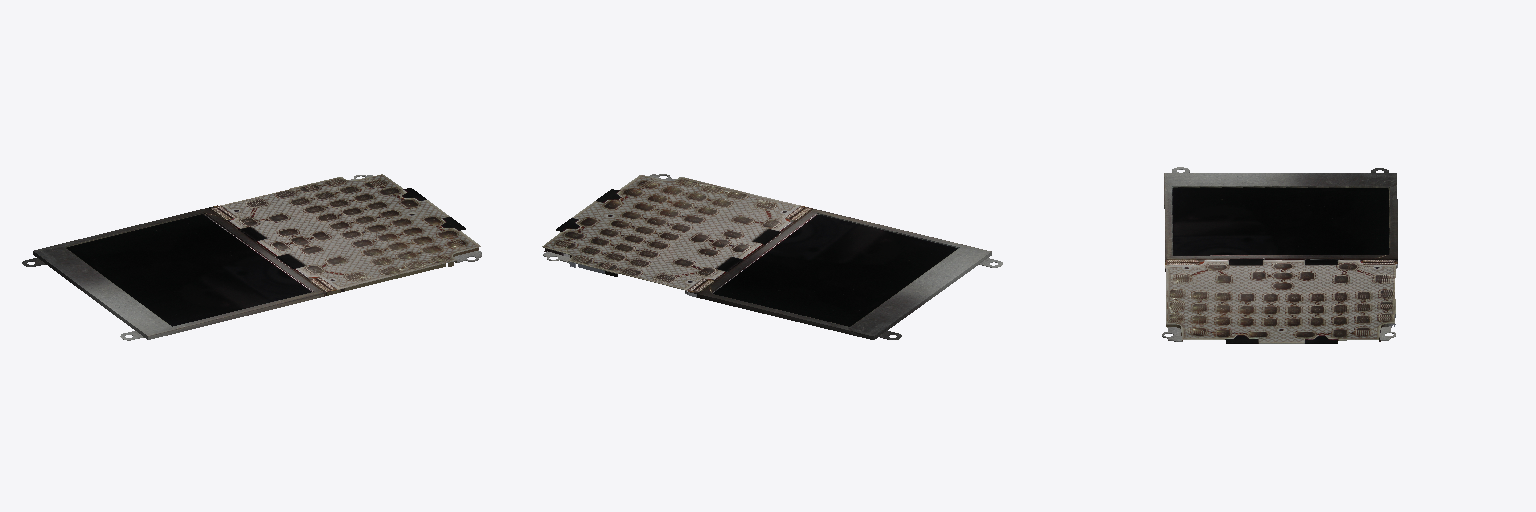
The picture shows the model from 3 angles: view 1: azimuth 30°, elevation 25°; view 2: azimuth 150°, elevation 25°; view 3: azimuth 270°, elevation 25°; orthographic projection.
Size of the model in its own units: 984 by 12.81 by 547.
Materials: 2 (2 with a texture image).